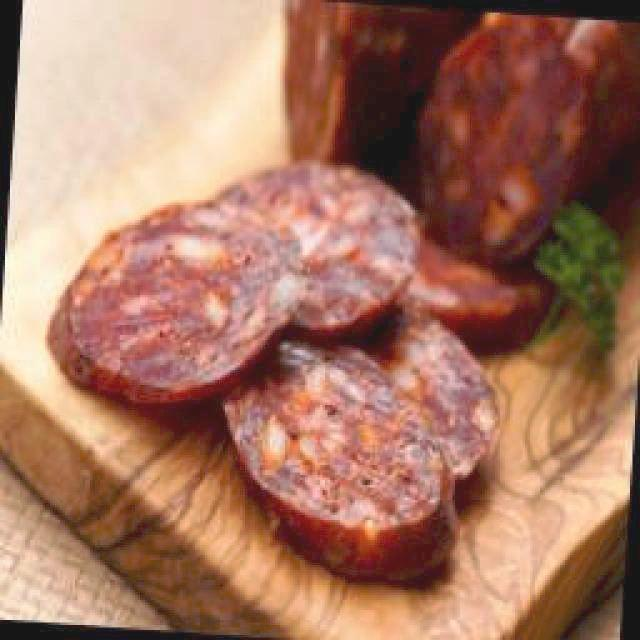chinese_sausage: (46, 160, 501, 584)
